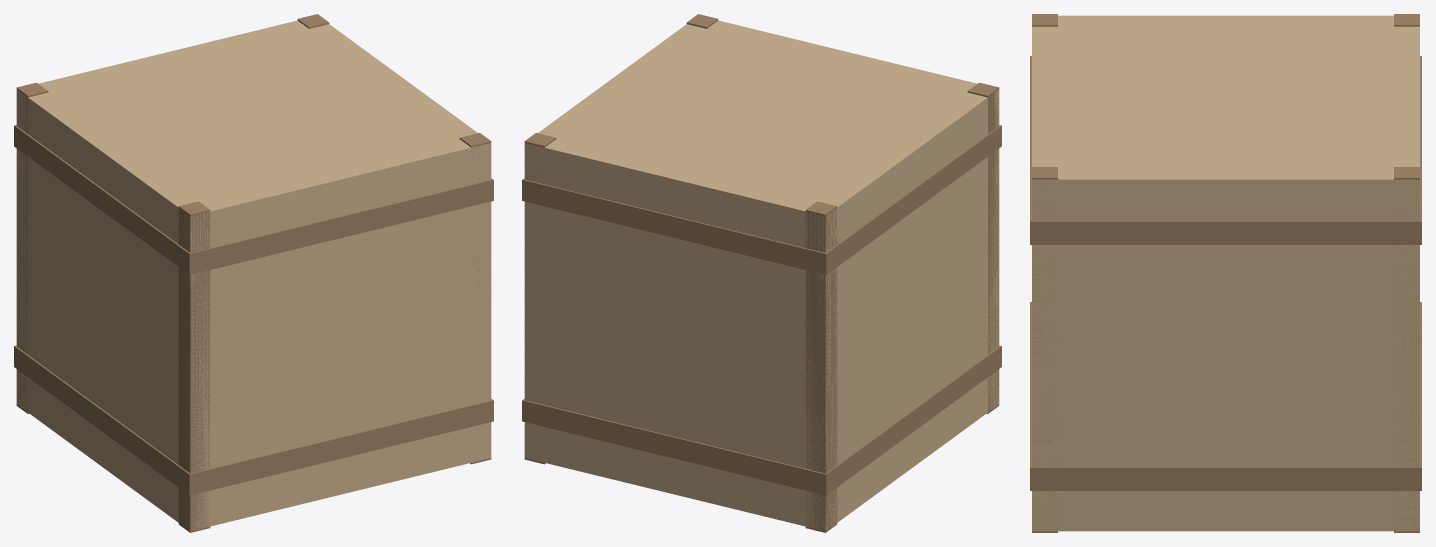
File: crate.glb
3 views of the same model, side by side, from view 1: azimuth 30°, elevation 25°; view 2: azimuth 150°, elevation 25°; view 3: azimuth 270°, elevation 25° (orthographic). The views are drawn at different scales.
Parts seen in each view (by area): view 1: Crate; view 2: Crate; view 3: Crate.
Boxes of the visible parts, x1,y1,x2,y2 form: Crate: (14,14,493,532); Crate: (522,14,1001,532); Crate: (1030,14,1421,532).
Size of the model in its own units: 0.7575 by 0.7575 by 0.7575.
